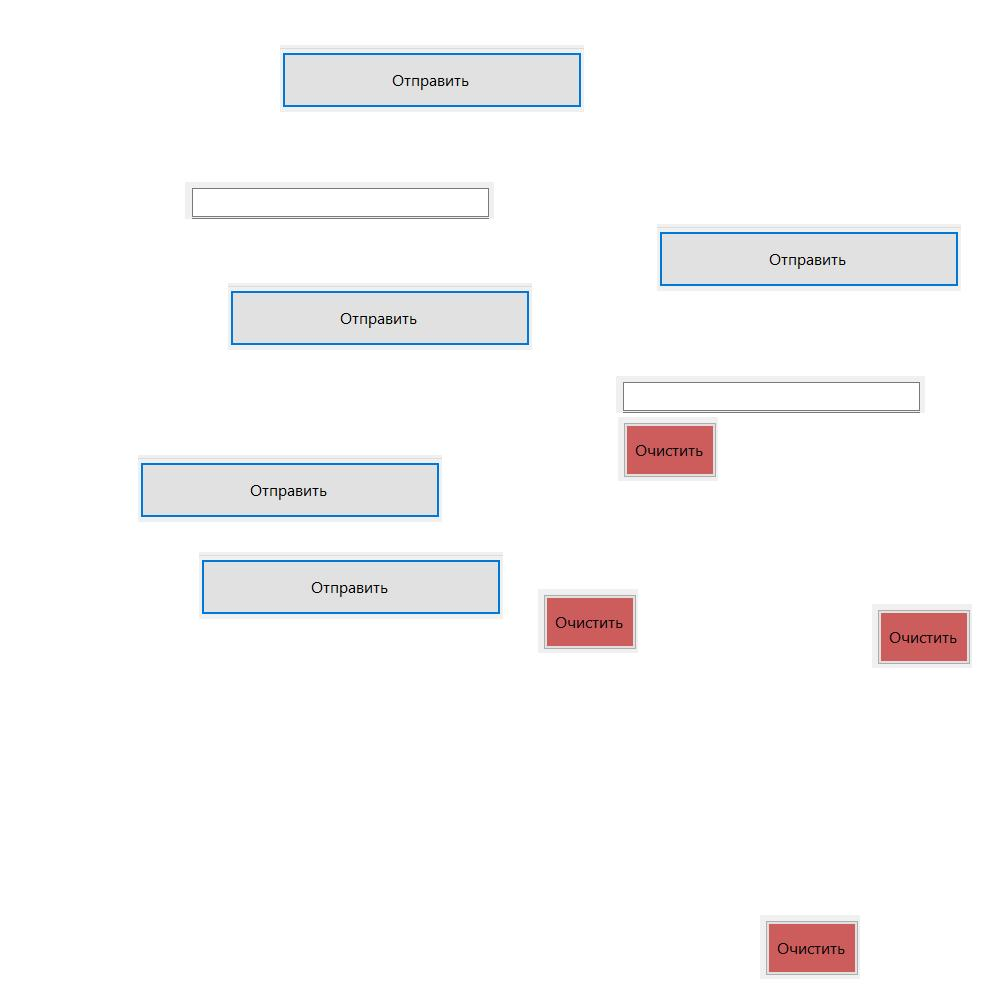Button: (199, 552, 503, 619), (138, 455, 442, 522), (657, 224, 961, 291), (280, 45, 584, 112), (228, 283, 532, 350), (760, 915, 860, 979), (538, 589, 638, 653), (618, 417, 718, 481), (872, 604, 972, 668)
EditText-: (185, 182, 494, 219), (616, 376, 925, 413)
